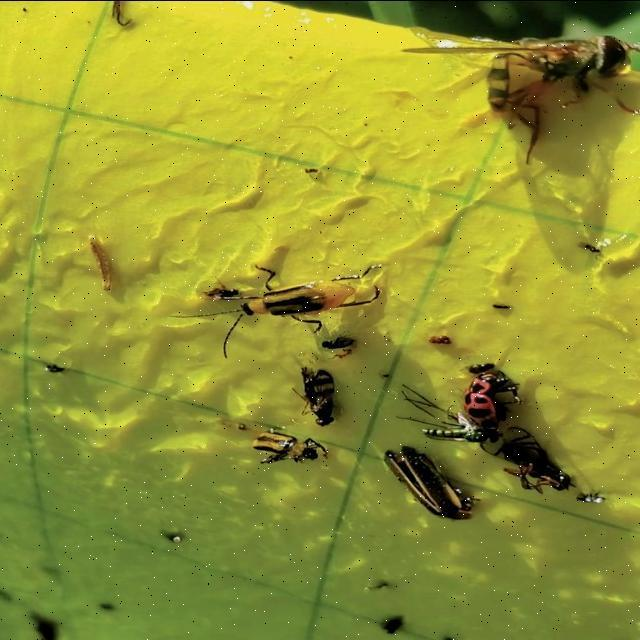trips: (174, 252, 392, 352), (241, 418, 338, 471)
